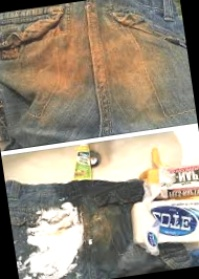earth: (33, 23, 106, 94), (101, 21, 152, 109)
